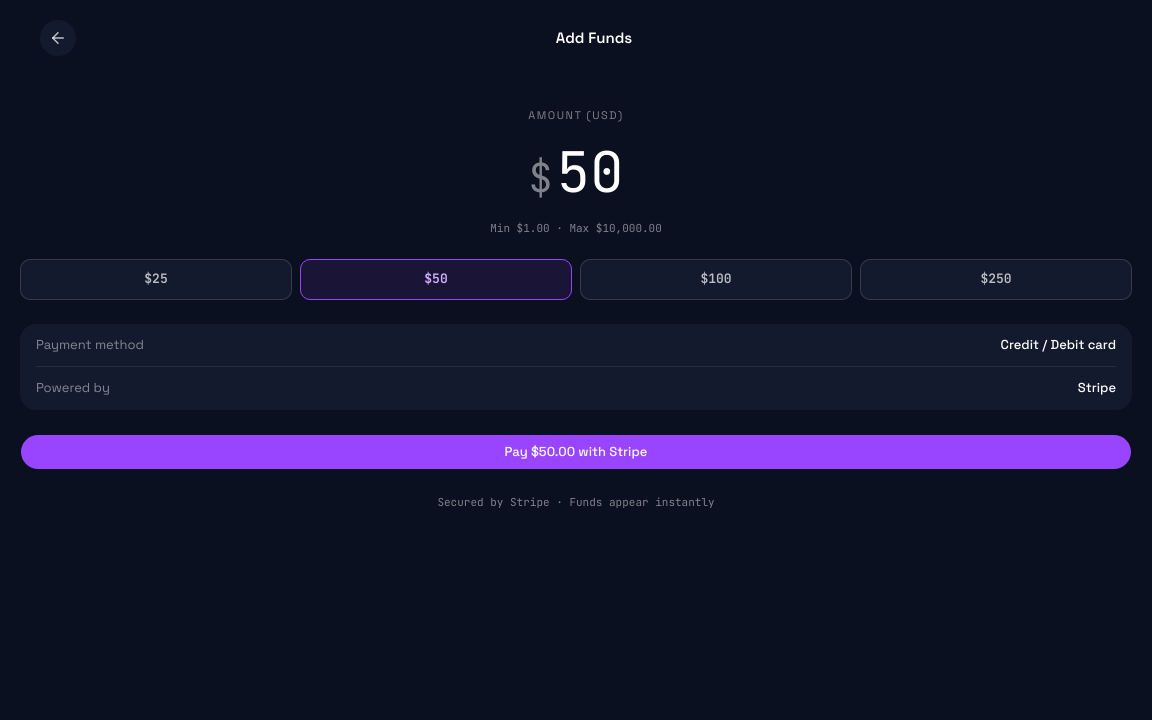
AddFundsPage › should strip leading zeros from amount
The width and height of the screenshot is (1152, 720).
Clear the field named "Amount in USD" at point(590, 172), box [556,135,624,209]
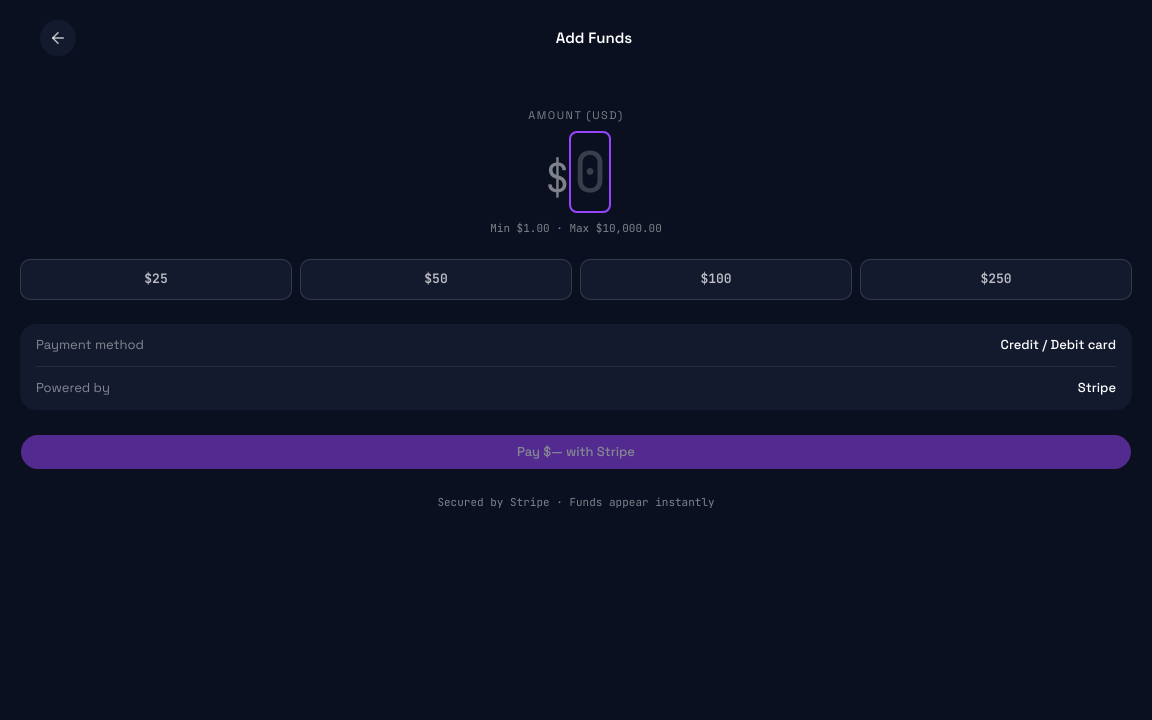
Type "0050" into the field named "Amount in USD" at point(590, 172), box [573,135,607,209]
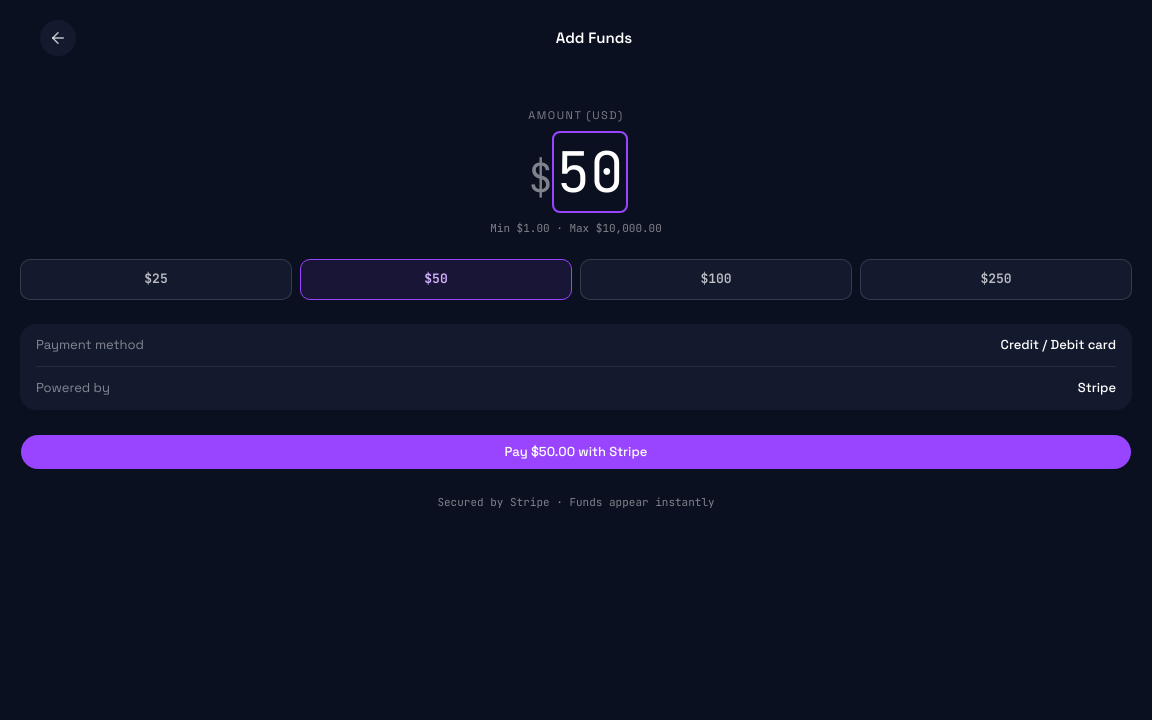
expect the field named "Amount in USD" holds "50": met, box [556,135,624,209]
